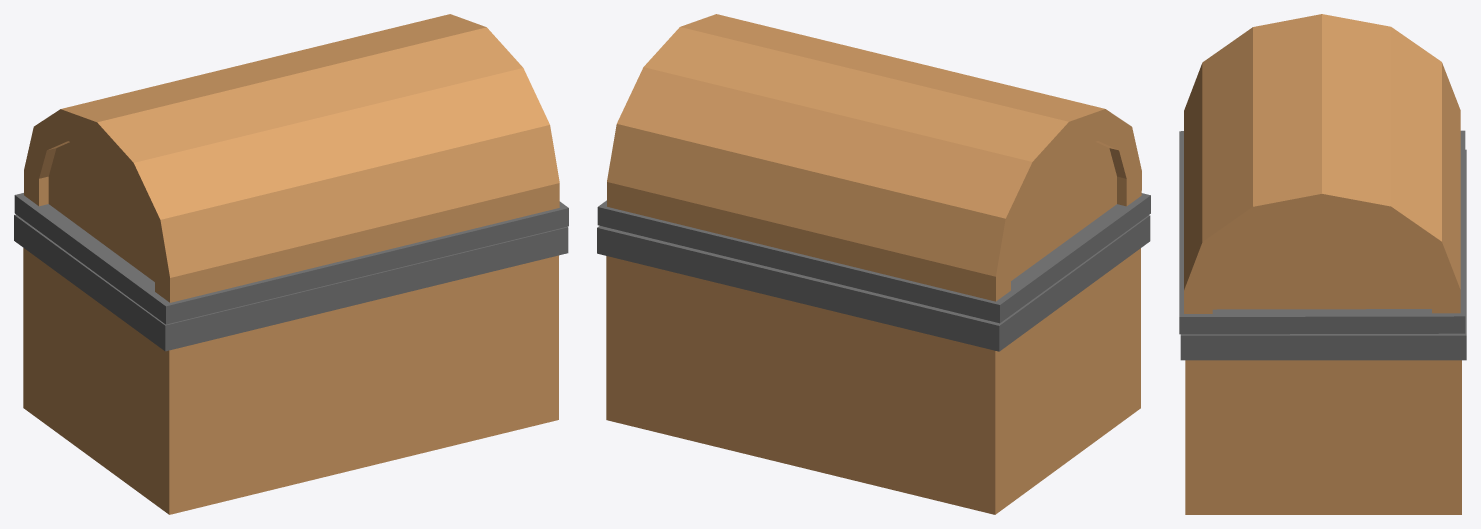
Rendered from Truhe_Klein.fbx.
3 views of the same model, side by side, from view 1: azimuth 30°, elevation 25°; view 2: azimuth 150°, elevation 25°; view 3: azimuth 270°, elevation 25° (orthographic). The views are drawn at different scales.
Parts seen in each view (by area): view 1: TruhenDeckel, Truhe; view 2: TruhenDeckel, Truhe; view 3: TruhenDeckel, Truhe.
Part boxes in pixels (x1,y1,x2,y2): TruhenDeckel: [14, 14, 568, 324]; Truhe: [14, 214, 568, 514]; TruhenDeckel: [597, 14, 1150, 323]; Truhe: [597, 215, 1150, 514]; TruhenDeckel: [1179, 14, 1465, 334]; Truhe: [1180, 149, 1466, 514].
Bounding box in the file's own units: 414 × 333 × 270.
